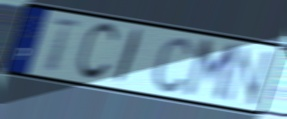C: (74, 21, 121, 83), (150, 34, 196, 95)
I: (111, 27, 145, 87)
M: (180, 37, 242, 105)
N: (221, 46, 275, 109)
T: (45, 16, 82, 75)
